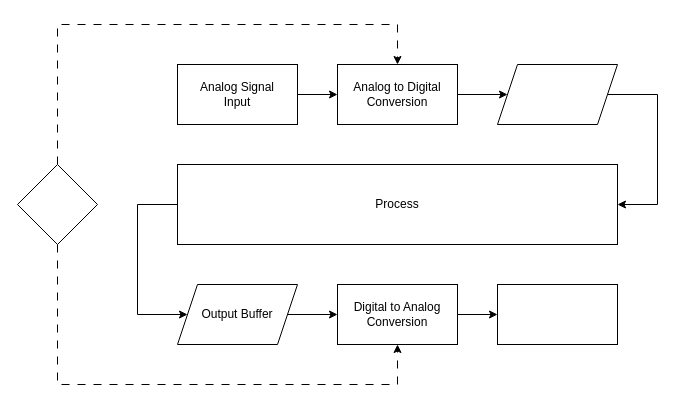
Some shapes in this 683 by 410 pixel diagram are drawn without their labels. The centre of each missing label's shape, as x and y in pixels:
Analog Signal Output: the point at 557,314
Input Buffer: the point at 557,94
Timer: the point at 57,204
